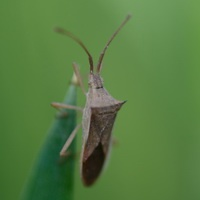insect: (54, 15, 130, 185)
